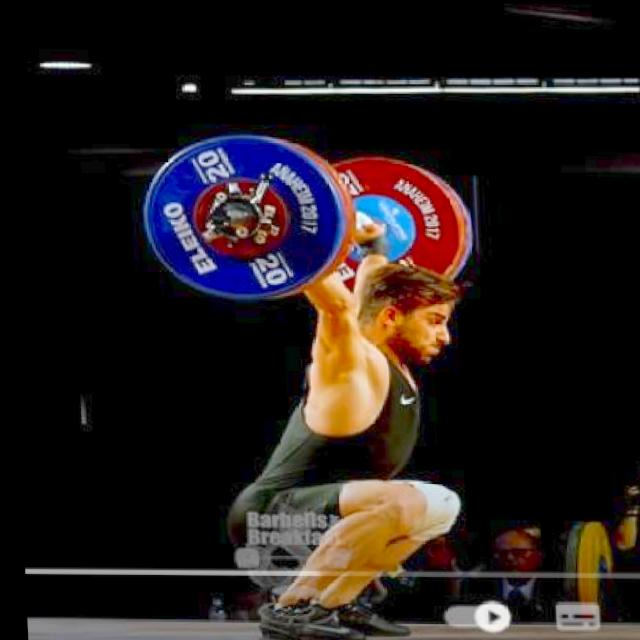barbell: (134, 127, 345, 307)
